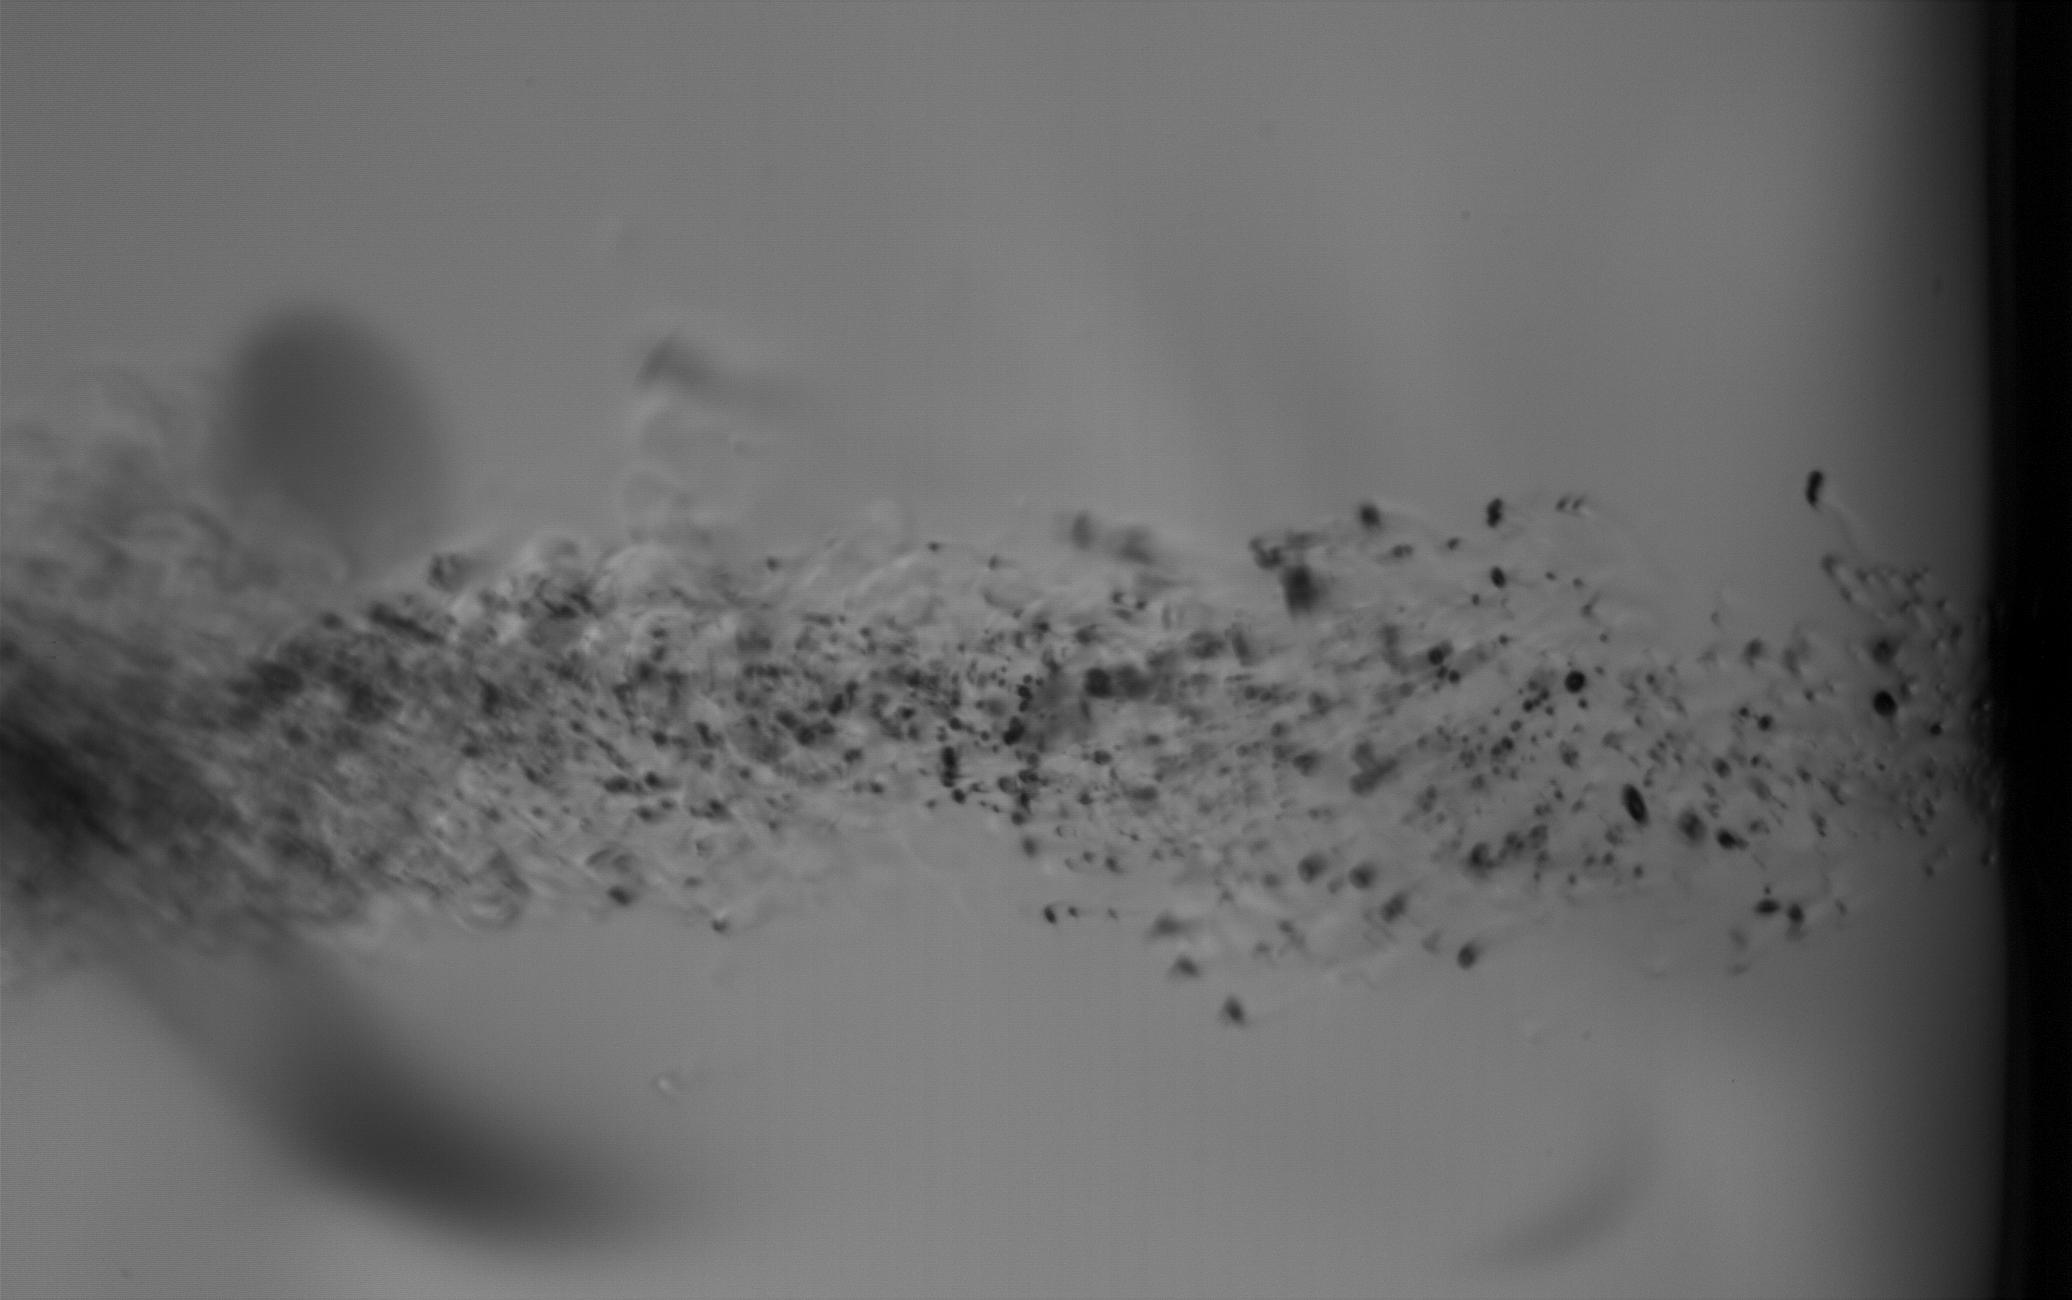Blurry: (862, 687, 921, 744), (467, 669, 506, 722), (939, 746, 970, 791), (457, 722, 482, 761), (692, 717, 719, 749), (776, 708, 807, 732), (642, 771, 666, 789), (593, 702, 612, 723), (868, 780, 886, 798), (570, 717, 588, 734), (713, 920, 734, 933), (530, 804, 546, 821), (1264, 872, 1279, 890)
ClassicalEvaporation: (975, 631, 1514, 744), (1268, 701, 1558, 738), (1084, 665, 1118, 699), (1713, 824, 1743, 855), (1871, 687, 1898, 717), (647, 723, 674, 753), (945, 708, 972, 737), (1454, 942, 1481, 971), (1743, 638, 1770, 665), (1427, 641, 1454, 668), (999, 717, 1026, 744), (1446, 665, 1472, 692), (1358, 500, 1383, 527), (1871, 637, 1897, 663), (1349, 863, 1374, 890), (1707, 755, 1731, 783), (1561, 668, 1587, 693), (1785, 902, 1806, 926), (1755, 714, 1779, 735), (1925, 720, 1945, 738), (1232, 741, 1249, 759), (1581, 854, 1597, 872), (1551, 786, 1567, 804), (1508, 717, 1524, 734), (1518, 699, 1535, 716), (1564, 872, 1581, 888), (1575, 696, 1591, 713), (1738, 702, 1755, 719), (1469, 589, 1484, 607), (1749, 750, 1764, 768), (1243, 684, 1258, 702), (1600, 851, 1615, 867), (1806, 686, 1820, 702), (1502, 734, 1517, 750), (1023, 672, 1035, 686), (930, 539, 942, 553)
TransitionalMixing: (1037, 464, 1832, 930), (829, 693, 1046, 863), (1629, 765, 1820, 881), (1488, 556, 1520, 601), (1223, 991, 1253, 1035), (1621, 783, 1651, 827), (1168, 951, 1204, 979), (600, 882, 633, 909), (1298, 854, 1323, 887), (1752, 896, 1785, 918), (1067, 749, 1109, 765), (605, 774, 636, 795), (1020, 792, 1035, 816), (635, 807, 656, 824), (657, 797, 678, 813), (1014, 693, 1029, 714), (1064, 902, 1079, 923), (1570, 574, 1587, 592), (952, 786, 967, 804), (1645, 672, 1656, 684)
